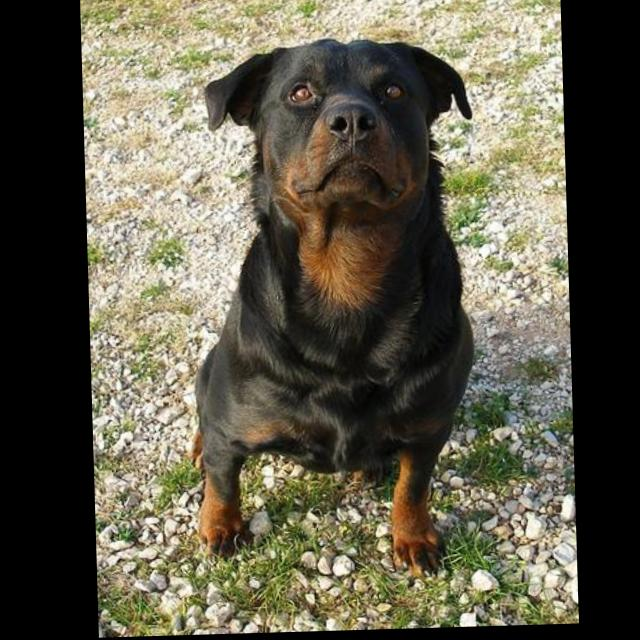rottweiler: (179, 37, 484, 588)
